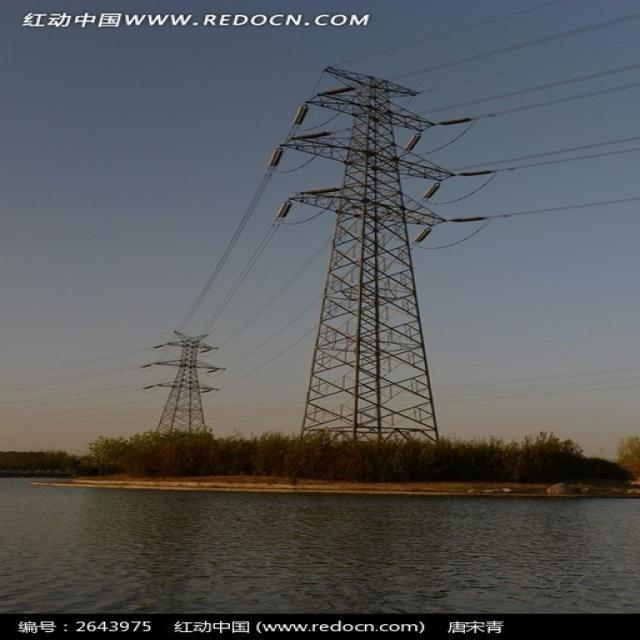non-critical vegetation: (280, 64, 444, 433), (128, 319, 218, 428)
